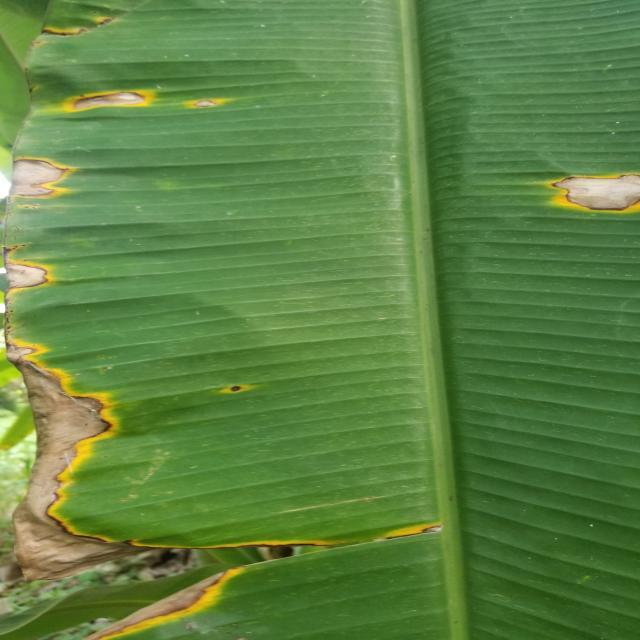Early_rust: (0, 236, 456, 635), (520, 143, 640, 229), (38, 73, 238, 124), (0, 139, 91, 216), (20, 0, 132, 45)
